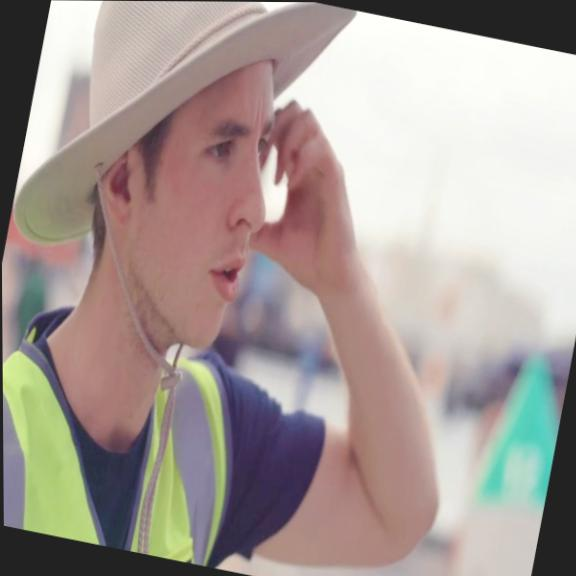safety_vest: (2, 291, 256, 567)
